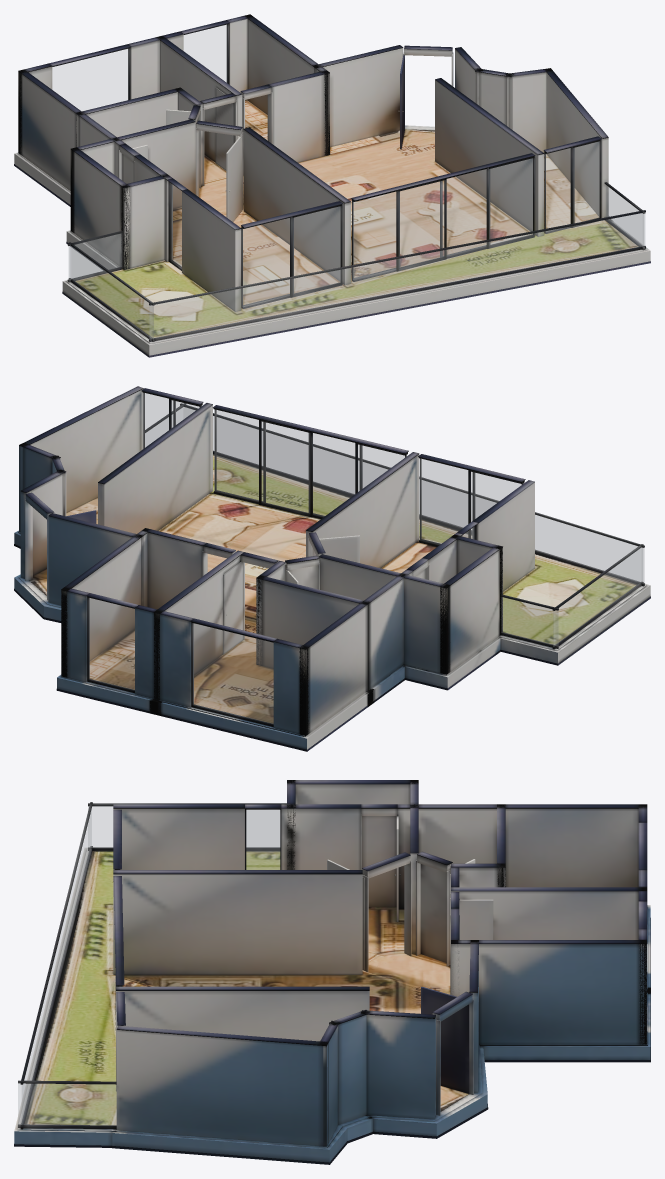
The picture shows the model from 3 angles, top to bottom: view 1: azimuth 30°, elevation 25°; view 2: azimuth 150°, elevation 25°; view 3: azimuth 270°, elevation 25°; orthographic projection. The views are drawn at different scales.
Parts seen in each view (by area): view 1: plan, railg2_m, glass4_m, glass3_m, glass5_m, glass0_m, railg3_m, railg0_m, glass1_m, railg1_m, glass2_m; view 2: plan, glass4_m, railg2_m, glass0_m, glass3_m, glass1_m, railg3_m, railg0_m, glass5_m; view 3: plan, railg1_m, railg2_m, railg3_m, glass2_m.
Boxes of the visible parts, x1=… form: plan: x1=14, y1=14, x2=650, y2=357; railg2_m: x1=149, y1=213, x2=645, y2=338; glass4_m: x1=353, y1=158, x2=532, y2=279; glass3_m: x1=242, y1=206, x2=340, y2=305; glass5_m: x1=545, y1=142, x2=599, y2=228; glass0_m: x1=52, y1=49, x2=128, y2=110; railg3_m: x1=70, y1=246, x2=153, y2=338; railg0_m: x1=68, y1=233, x2=122, y2=279; glass1_m: x1=184, y1=25, x2=227, y2=82; railg1_m: x1=606, y1=185, x2=644, y2=247; glass2_m: x1=171, y1=184, x2=181, y2=267; plan: x1=14, y1=386, x2=650, y2=751; glass4_m: x1=214, y1=410, x2=404, y2=516; railg2_m: x1=184, y1=407, x2=644, y2=582; glass0_m: x1=193, y1=623, x2=273, y2=723; glass3_m: x1=419, y1=459, x2=521, y2=544; glass1_m: x1=89, y1=598, x2=134, y2=690; railg3_m: x1=553, y1=548, x2=642, y2=646; railg0_m: x1=501, y1=597, x2=558, y2=645; glass5_m: x1=143, y1=393, x2=199, y2=448; plan: x1=14, y1=780, x2=650, y2=1164; railg1_m: x1=18, y1=1083, x2=116, y2=1125; railg2_m: x1=22, y1=810, x2=91, y2=1123; railg3_m: x1=88, y1=806, x2=279, y2=847; glass2_m: x1=246, y1=810, x2=279, y2=869.
Bounding box in the file's own units: 14.49 × 2.62 × 12.91.
2 materials, 1 textured.
